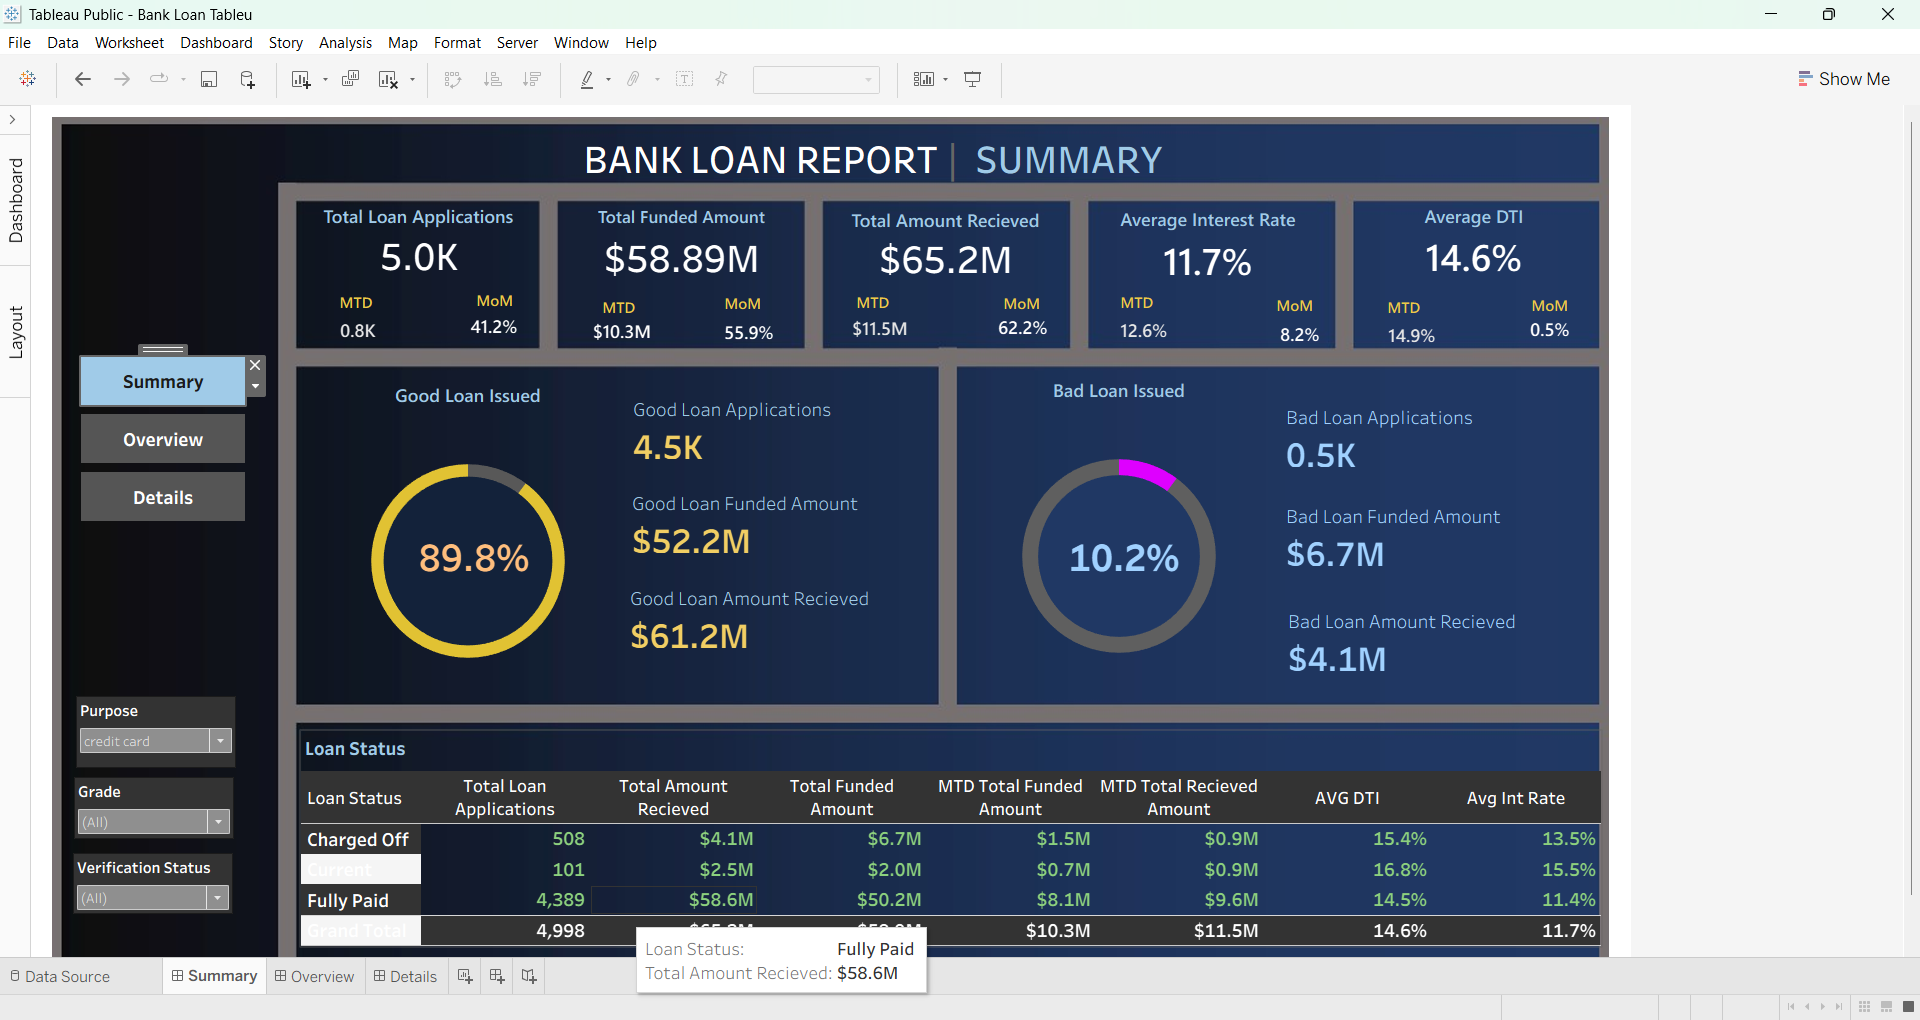

Layout of this report page (visuals, bound fields, positions):
{"tool":"powerbi","page":{"name":"Summary","canvas":[1280,720],"ordinal":0},"visuals":[{"type":"shape","box":[0,0,1280.3,52.1],"z":0},{"type":"shape","box":[208.6,68.6,182,116.6],"z":0,"group":"g1"},{"type":"shape","box":[421.6,68.6,182,116.6],"z":0,"group":"g2"},{"type":"shape","box":[848.1,70,197.2,117],"z":0,"group":"g4"},{"type":"shape","box":[1076.1,70,182.6,117],"z":0,"group":"g5"},{"type":"shape","box":[634.6,71.2,178.1,117],"z":0,"group":"g3"},{"type":"shape","box":[1.4,52.1,192.1,668.3],"z":1000},{"type":"card","fields":{"Values":["bank_loan_data.Total Loan Applications"]},"box":[234.2,75.5,130.8,63.1],"z":1000,"group":"g1"},{"type":"card","fields":{"Values":["bank_loan_data.TOTAL FUNDED AMOUNT"]},"box":[442.7,81.5,142.7,54.9],"z":1000,"group":"g2"},{"type":"card","fields":{"Values":["bank_loan_data.AVG INTEREST RATE"]},"box":[871,82.9,154.6,55.1],"z":1000,"group":"g4"},{"type":"card","fields":{"Values":["bank_loan_data.Total Funded Amount"]},"box":[1097.3,82.9,143.1,55.1],"z":1000,"group":"g5"},{"type":"card","fields":{"Values":["bank_loan_data.TOTAL RECIEVED AMOUNT"]},"box":[655.2,84.1,139.6,55.1],"z":1000,"group":"g3"},{"type":"textbox","box":[208.6,68.6,194.9,38.4],"z":2000,"group":"g1"},{"type":"textbox","box":[421.6,68.6,194.9,38.4],"z":2000,"group":"g2"},{"type":"textbox","box":[848.1,70,211.1,38.5],"z":2000,"group":"g4"},{"type":"textbox","box":[1076.1,70,195.4,38.5],"z":2000,"group":"g5"},{"type":"textbox","box":[634.6,71.2,190.6,38.5],"z":2000,"group":"g3"},{"type":"shape","box":[200.3,211.3,521.4,249.7],"z":2000},{"type":"card","title":"MTD","fields":{"Values":["bank_loan_data.MTD LOAN APPLICATIONS"]},"box":[208.6,131.7,85.9,45.3],"z":3000,"group":"g1"},{"type":"card","title":"MTD","fields":{"Values":["bank_loan_data.MTD FUNDED AMOUNT"]},"box":[421.6,131.7,85.9,45.3],"z":3000,"group":"g2"},{"type":"card","title":"MTD","fields":{"Values":["bank_loan_data.MTD AVG INT RATE"]},"box":[848.1,133.3,93.1,45.4],"z":3000,"group":"g4"},{"type":"card","title":"MTD","fields":{"Values":["bank_loan_data.MTD AVG DTI"]},"box":[1076.1,133.3,86.1,45.4],"z":3000,"group":"g5"},{"type":"card","title":"MTD","fields":{"Values":["bank_loan_data.MTD TOTAL Recieved  AMOUNT"]},"box":[634.6,134.5,84,45.4],"z":3000,"group":"g3"},{"type":"donutChart","fields":{"Category":["bank_loan_data.GOOD VS BAD LOAN"],"Y":["bank_loan_data.Total Loan Applications"]},"box":[204.5,234.6,216.8,209.9],"z":3000},{"type":"card","title":"MOM","fields":{"Values":["bank_loan_data.MOM LOAN APPLICATIONS"]},"box":[299.6,130.3,85.9,45.3],"z":4000,"group":"g1"},{"type":"card","title":"MOM","fields":{"Values":["bank_loan_data.MOM FUNDED AMOUNT"]},"box":[512.6,130.3,85.9,45.3],"z":4000,"group":"g2"},{"type":"card","title":"MOM","fields":{"Values":["bank_loan_data.MOM AVG INT T"]},"box":[946.7,132,93.1,45.4],"z":4000,"group":"g4"},{"type":"card","title":"MOM","fields":{"Values":["bank_loan_data.MOM AVG DTI"]},"box":[1167.4,132,86.1,45.4],"z":4000,"group":"g5"},{"type":"card","title":"MOM","fields":{"Values":["bank_loan_data.MOM received AMOUNT"]},"box":[723.6,133.2,84,45.4],"z":4000,"group":"g3"},{"type":"card","fields":{"Values":["bank_loan_data.Good Loan %"]},"box":[242.9,308.7,142.7,54.9],"z":4000},{"type":"textbox","box":[31.6,211.3,554.4,65.9],"z":5000},{"type":"textbox","box":[440.5,0,481.6,52.1],"z":6000},{"type":"group","id":"g1","title":"Group 1","box":[208.6,68.6,194.9,116.6],"z":7000},{"type":"group","id":"g2","title":"Group 1","box":[421.6,68.6,194.9,116.6],"z":8000},{"type":"group","id":"g3","title":"Group 1","box":[634.6,71.2,190.6,117],"z":9000},{"type":"group","id":"g4","title":"Group 1","box":[848.1,70,211.1,117],"z":10000},{"type":"group","id":"g5","title":"Group 1","box":[1076.1,70,194.2,117],"z":11000},{"type":"shape","box":[747.9,211.3,522.8,249.7],"z":12000},{"type":"actionButton","box":[0,0,100,40],"z":13000},{"type":"cardVisual","fields":{"Data":["bank_loan_data.GOOD LOAN Applications","bank_loan_data.GOOD LOAN FUNDED AMOUNT","bank_loan_data.GOOD LOAN Recieved AMOUNT"]},"box":[425.4,211.3,301.9,253.9],"z":14000},{"type":"donutChart","fields":{"Category":["bank_loan_data.GOOD VS BAD LOAN"],"Y":["bank_loan_data.Total Loan Applications"]},"box":[760.2,247,216.8,209.9],"z":15000},{"type":"card","fields":{"Values":["bank_loan_data.Bad Loan %"]},"box":[798.6,312.9,142.7,54.9],"z":16000},{"type":"shape","box":[200.3,474.8,1070.3,229.2],"z":17000},{"type":"cardVisual","fields":{"Data":["bank_loan_data.Bad Loan Applications","bank_loan_data.Bad Loan Funded Amount","bank_loan_data.Bad Loan Received Amount"]},"box":[968.8,207.2,301.9,253.9],"z":18000},{"type":"tableEx","fields":{"Values":["bank_loan_data.loan_status","bank_loan_data.Total Loan Applications","bank_loan_data.TOTAL FUNDED AMOUNT","bank_loan_data.TOTAL RECIEVED AMOUNT","bank_loan_data.MTD TOTAL funded amount AMOUNT","bank_loan_data.MTD TOTAL Recieved  AMOUNT","bank_loan_data.AVG INTEREST RATE","bank_loan_data.AVG DTI"]},"box":[204.5,506.3,1066.2,197.6],"z":19000},{"type":"textbox","box":[465.2,220.9,815.1,71.4],"z":20000},{"type":"textbox","box":[9.6,474.8,585.9,31.6],"z":21000},{"type":"slicer","fields":{"Values":["bank_loan_data.address_state"]},"box":[15.1,377.4,163.3,43.9],"z":22000},{"type":"textbox","box":[0,352.7,97.4,46.7],"z":23000},{"type":"textbox","box":[1.2,475.3,95.3,31.4],"z":24000},{"type":"slicer","fields":{"Values":["bank_loan_data.grade"]},"box":[15.1,506.3,163.3,50.8],"z":25000},{"type":"slicer","fields":{"Values":["bank_loan_data.purpose"]},"box":[9.6,639.5,168.8,49.4],"z":26000},{"type":"textbox","box":[15.7,605.6,84.5,49.5],"z":27000},{"type":"pageNavigator","box":[6.9,153.7,178.4,186.6],"z":28000},{"type":"image","box":[12.1,37.4,168.9,105],"z":29000}]}

Visuals, with their boxes on the page's 1280x720 design canvas (x1, y1, x2, y2). These are canvas units, not pixel positions in the 1920x1020 screenshot, which may show the page scaled, cropped or inside an application window:
shape: pyautogui.locateOnScreen(0, 0, 1280, 52)
shape: pyautogui.locateOnScreen(209, 69, 391, 185)
shape: pyautogui.locateOnScreen(422, 69, 604, 185)
shape: pyautogui.locateOnScreen(848, 70, 1045, 187)
shape: pyautogui.locateOnScreen(1076, 70, 1259, 187)
shape: pyautogui.locateOnScreen(635, 71, 813, 188)
shape: pyautogui.locateOnScreen(1, 52, 194, 720)
card - bank_loan_data.Total Loan Applications: pyautogui.locateOnScreen(234, 76, 365, 139)
card - bank_loan_data.TOTAL FUNDED AMOUNT: pyautogui.locateOnScreen(443, 82, 585, 136)
card - bank_loan_data.AVG INTEREST RATE: pyautogui.locateOnScreen(871, 83, 1026, 138)
card - bank_loan_data.Total Funded Amount: pyautogui.locateOnScreen(1097, 83, 1240, 138)
card - bank_loan_data.TOTAL RECIEVED AMOUNT: pyautogui.locateOnScreen(655, 84, 795, 139)
textbox: pyautogui.locateOnScreen(209, 69, 404, 107)
textbox: pyautogui.locateOnScreen(422, 69, 616, 107)
textbox: pyautogui.locateOnScreen(848, 70, 1059, 108)
textbox: pyautogui.locateOnScreen(1076, 70, 1272, 108)
textbox: pyautogui.locateOnScreen(635, 71, 825, 110)
shape: pyautogui.locateOnScreen(200, 211, 722, 461)
"MTD" card: pyautogui.locateOnScreen(209, 132, 294, 177)
"MTD" card: pyautogui.locateOnScreen(422, 132, 508, 177)
"MTD" card: pyautogui.locateOnScreen(848, 133, 941, 179)
"MTD" card: pyautogui.locateOnScreen(1076, 133, 1162, 179)
"MTD" card: pyautogui.locateOnScreen(635, 134, 719, 180)
donutChart - bank_loan_data.GOOD VS BAD LOAN x bank_loan_data.Total Loan Applications: pyautogui.locateOnScreen(204, 235, 421, 444)
"MOM" card: pyautogui.locateOnScreen(300, 130, 386, 176)
"MOM" card: pyautogui.locateOnScreen(513, 130, 598, 176)
"MOM" card: pyautogui.locateOnScreen(947, 132, 1040, 177)
"MOM" card: pyautogui.locateOnScreen(1167, 132, 1254, 177)
"MOM" card: pyautogui.locateOnScreen(724, 133, 808, 179)
card - bank_loan_data.Good Loan %: pyautogui.locateOnScreen(243, 309, 386, 364)
textbox: pyautogui.locateOnScreen(32, 211, 586, 277)
textbox: pyautogui.locateOnScreen(440, 0, 922, 52)
"Group 1" group: pyautogui.locateOnScreen(209, 69, 404, 185)
"Group 1" group: pyautogui.locateOnScreen(422, 69, 616, 185)
"Group 1" group: pyautogui.locateOnScreen(635, 71, 825, 188)
"Group 1" group: pyautogui.locateOnScreen(848, 70, 1059, 187)
"Group 1" group: pyautogui.locateOnScreen(1076, 70, 1270, 187)
shape: pyautogui.locateOnScreen(748, 211, 1271, 461)
actionButton: pyautogui.locateOnScreen(0, 0, 100, 40)
cardVisual - bank_loan_data.GOOD LOAN Applications x bank_loan_data.GOOD LOAN FUNDED AMOUNT: pyautogui.locateOnScreen(425, 211, 727, 465)
donutChart - bank_loan_data.GOOD VS BAD LOAN x bank_loan_data.Total Loan Applications: pyautogui.locateOnScreen(760, 247, 977, 457)
card - bank_loan_data.Bad Loan %: pyautogui.locateOnScreen(799, 313, 941, 368)
shape: pyautogui.locateOnScreen(200, 475, 1271, 704)
cardVisual - bank_loan_data.Bad Loan Applications x bank_loan_data.Bad Loan Funded Amount: pyautogui.locateOnScreen(969, 207, 1271, 461)
tableEx - bank_loan_data.loan_status x bank_loan_data.Total Loan Applications: pyautogui.locateOnScreen(204, 506, 1271, 704)
textbox: pyautogui.locateOnScreen(465, 221, 1280, 292)
textbox: pyautogui.locateOnScreen(10, 475, 596, 506)
slicer - bank_loan_data.address_state: pyautogui.locateOnScreen(15, 377, 178, 421)
textbox: pyautogui.locateOnScreen(0, 353, 97, 399)
textbox: pyautogui.locateOnScreen(1, 475, 96, 507)
slicer - bank_loan_data.grade: pyautogui.locateOnScreen(15, 506, 178, 557)
slicer - bank_loan_data.purpose: pyautogui.locateOnScreen(10, 640, 178, 689)
textbox: pyautogui.locateOnScreen(16, 606, 100, 655)
pageNavigator: pyautogui.locateOnScreen(7, 154, 185, 340)
image: pyautogui.locateOnScreen(12, 37, 181, 142)
